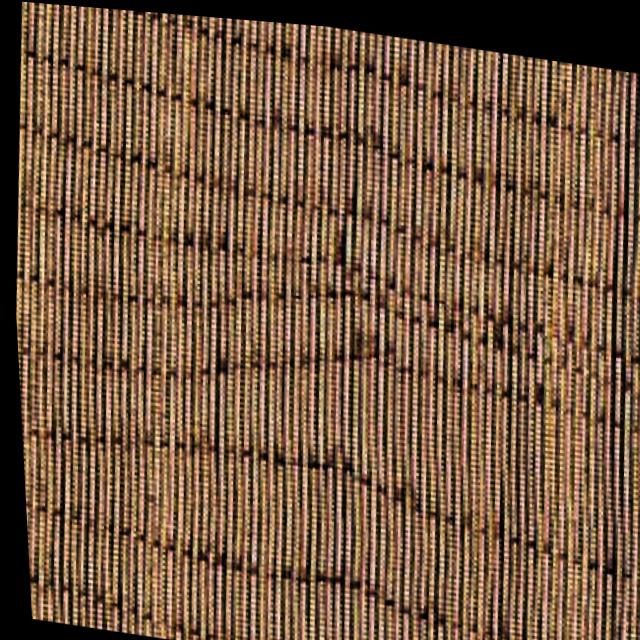Stitch: (195, 206, 640, 476)
